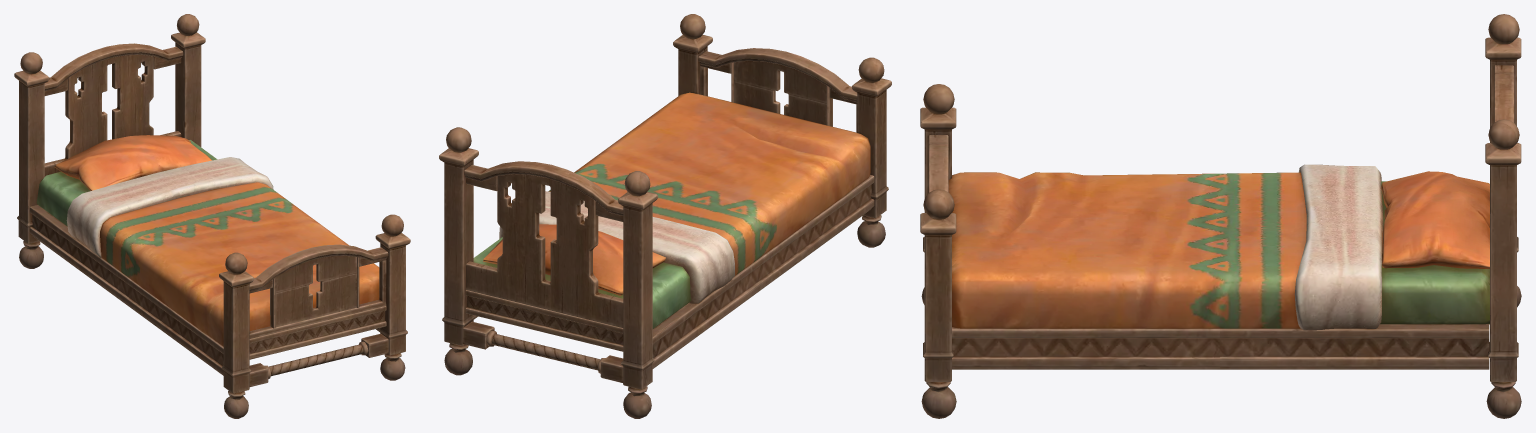
3 views of the same model, side by side, from view 1: azimuth 30°, elevation 25°; view 2: azimuth 150°, elevation 25°; view 3: azimuth 270°, elevation 25° (orthographic). The views are drawn at different scales.
Parts seen in each view (by area): view 1: SM_Umbral_Sands_Bed_01v1_LOD0; view 2: SM_Umbral_Sands_Bed_01v1_LOD0; view 3: SM_Umbral_Sands_Bed_01v1_LOD0.
Part boxes in pixels (x1,y1,x2,y2): SM_Umbral_Sands_Bed_01v1_LOD0: [14, 14, 410, 418]; SM_Umbral_Sands_Bed_01v1_LOD0: [439, 14, 891, 418]; SM_Umbral_Sands_Bed_01v1_LOD0: [920, 14, 1521, 418].
Bounding box in the file's own units: 1.01 × 1.15 × 2.11.
Materials: 1 (1 with a texture image).
